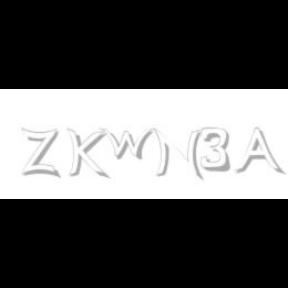3: (200, 128, 232, 172)
A: (234, 128, 282, 176)
K: (66, 128, 106, 180)
N: (153, 128, 202, 180)
Z: (22, 128, 58, 178)
w: (98, 128, 158, 160)
